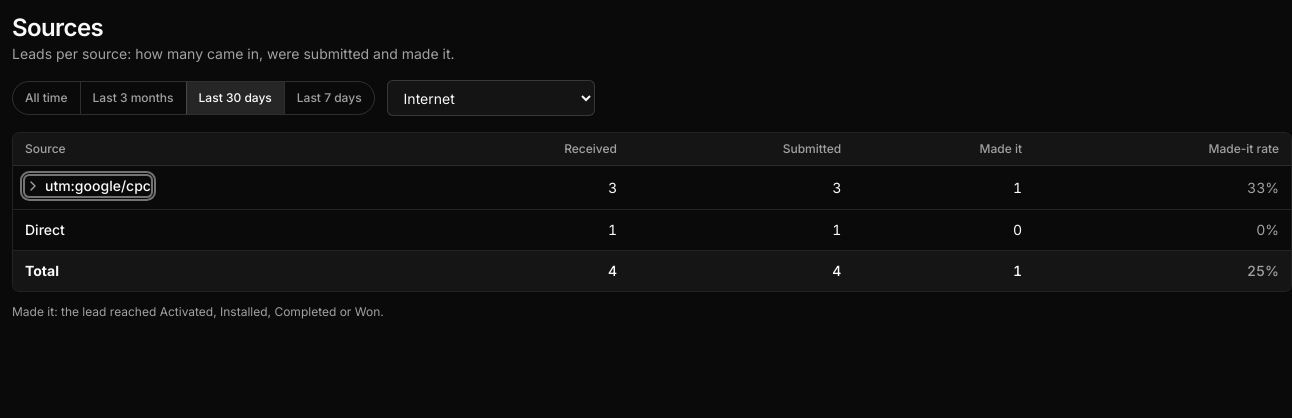
Test case: SourceReport › opens and closes a source's campaigns from its button
This screenshot has width=1292, height=418.
Expected: the table is shown, x1=13 y1=133 x2=1291 y2=291
Expected: the text "fall_promo" is not shown
Click the button "utm:google/cpc": click(88, 186) x1=25 y1=176 x2=151 y2=196
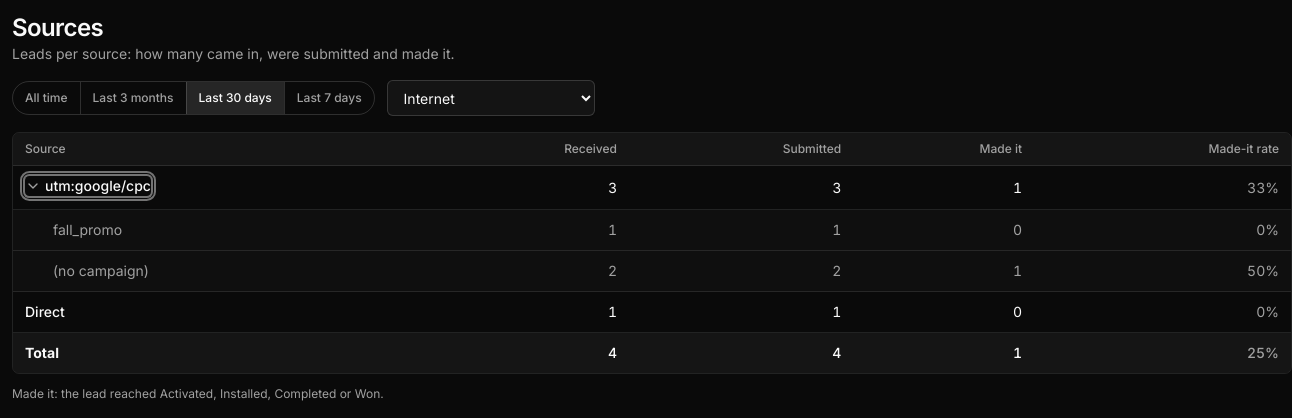
Now the button "utm:google/cpc" is expanded
Click the button "utm:google/cpc": click(88, 186) x1=25 y1=176 x2=151 y2=196
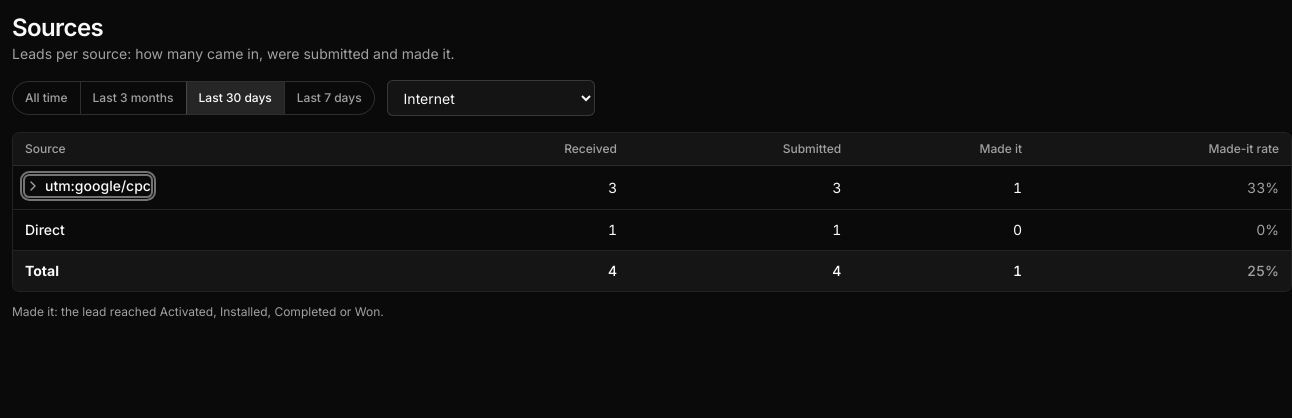
Now the button "utm:google/cpc" is collapsed, box x1=25 y1=176 x2=151 y2=196
Now the column heading "fall_promo" is gone
